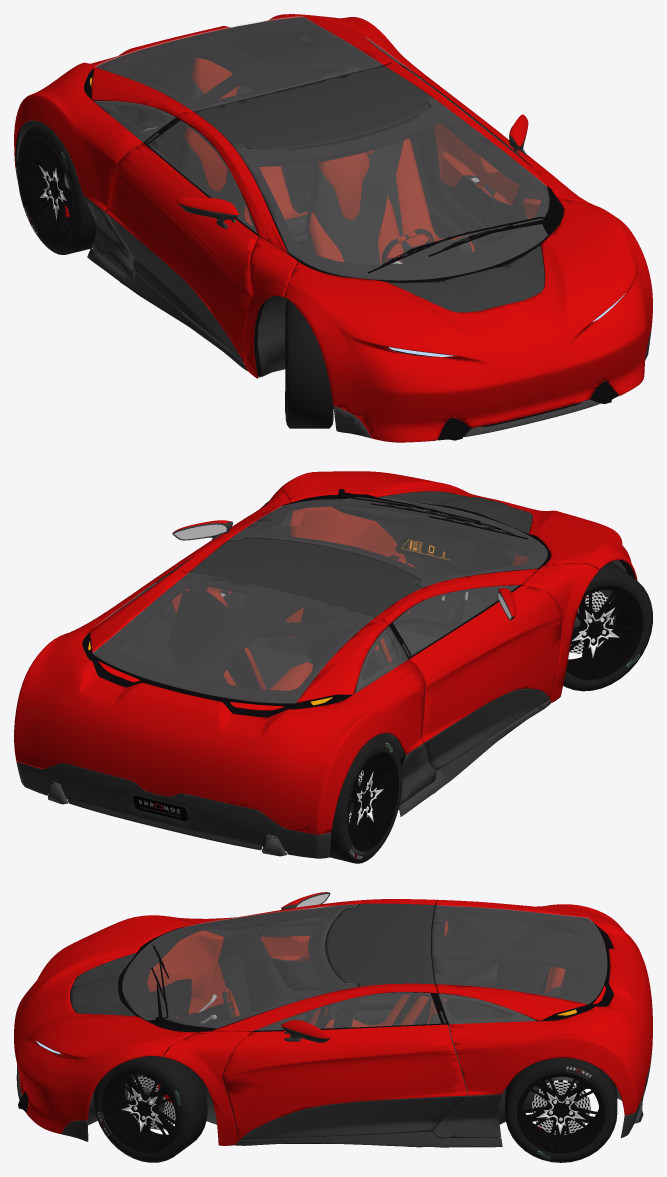
File: car-concept-lod1.glb
3 renders of one model, top to bottom at view 1: azimuth 30°, elevation 25°; view 2: azimuth 150°, elevation 25°; view 3: azimuth 270°, elevation 25°, orthographic. The views are drawn at different scales.
Parts seen in each view (by area): view 1: BodyHood, BodyWindshield, BodyRearwindow, BodyDoorRColor1, BodyRearPanelsColor1, BodyRoofPanel, BodyWindshieldGasket, InteriorSeatsColor1, InteriorSeatsColor2, BodyPillars, InteriorPillar, InteriorRearHatch (+21 smaller); view 2: BodyRearPanelsColor1, BodyRearwindow, BodyWindshield, BodyDoorRColor1, BodyPanelsColor2, BodyRoofPanel, BodyHood, InteriorRearHatch, BodyPillars, InteriorPillar, InteriorDashMid, BodyWindshieldGasket (+22 smaller); view 3: BodyRearPanelsColor1, BodyWindshield, BodyDoorLColor1, BodyHood, BodyRearwindow, BodyRoofPanel, BodyPillars, BodyWindshieldGasket, BodyDoorLColor2, BodyPanelsColor2, WheelFrontL, InteriorRearHatch (+25 smaller).
Boxes of the visible parts, box(x1,y1,x2,y2) form: BodyHood: box(283, 198, 652, 442); BodyWindshield: box(234, 98, 549, 280); BodyRearwindow: box(95, 16, 382, 110); BodyDoorRColor1: box(104, 143, 257, 363); BodyRearPanelsColor1: box(14, 14, 428, 210); BodyRoofPanel: box(193, 65, 432, 150); BodyWindshieldGasket: box(234, 99, 563, 282); InteriorSeatsColor1: box(185, 57, 475, 264); InteriorSeatsColor2: box(180, 78, 472, 264); BodyPillars: box(176, 61, 598, 378); InteriorPillar: box(158, 37, 434, 168); InteriorRearHatch: box(93, 17, 383, 117); BodyRearPanelsColor1: box(14, 569, 425, 834); BodyRearwindow: box(92, 573, 373, 703); BodyWindshield: box(229, 497, 547, 587); BodyDoorRColor1: box(409, 585, 562, 742); BodyPanelsColor2: box(16, 700, 550, 858); BodyRoofPanel: box(189, 537, 422, 617); BodyHood: box(279, 471, 637, 580); InteriorRearHatch: box(93, 573, 386, 707); BodyPillars: box(175, 489, 599, 702); InteriorPillar: box(174, 574, 417, 682); InteriorDashMid: box(331, 503, 528, 622); BodyWindshieldGasket: box(230, 497, 550, 587); BodyRearPanelsColor1: box(436, 899, 652, 1115); BodyWindshield: box(122, 904, 357, 1028); BodyDoorLColor1: box(222, 1024, 467, 1139); BodyHood: box(14, 915, 196, 1133); BodyRearwindow: box(432, 905, 606, 1003); BodyRoofPanel: box(326, 903, 434, 986); BodyPillars: box(163, 899, 437, 1145); BodyWindshieldGasket: box(118, 905, 357, 1032); BodyDoorLColor2: box(240, 1096, 467, 1140); BodyPanelsColor2: box(16, 1045, 652, 1147); WheelFrontL: box(93, 1054, 207, 1162); InteriorRearHatch: box(432, 905, 606, 1021).
Bounding box in the file's own units: 2.68 × 1.21 × 4.6.
Materials: 23 (6 with a texture image).
